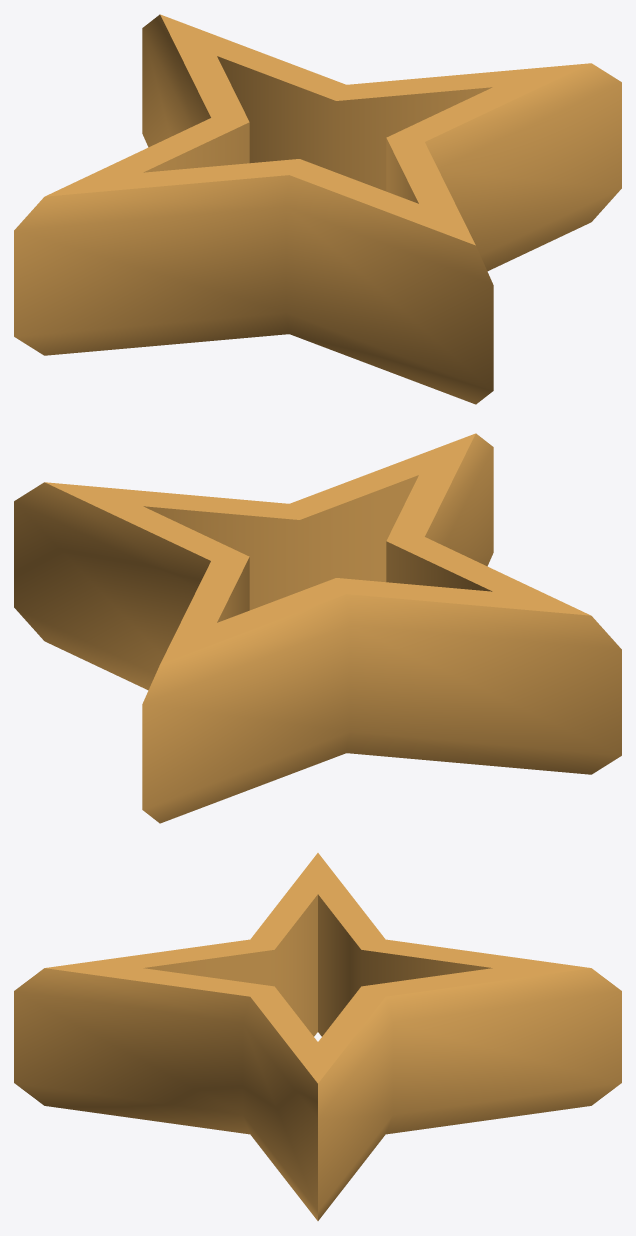
Rendered from Star_4P_05.fbx.
3 views of the same model, one above another, from view 1: azimuth 30°, elevation 25°; view 2: azimuth 150°, elevation 25°; view 3: azimuth 270°, elevation 25° (orthographic). The views are drawn at different scales.
Visible parts, largest first — view 1: Star_4P_05; view 2: Star_4P_05; view 3: Star_4P_05.
Part boxes in pixels (box(x1,y1,x2,y2)): Star_4P_05: box(14, 14, 621, 404); Star_4P_05: box(14, 433, 621, 823); Star_4P_05: box(14, 853, 621, 1220).
Size of the model in its own units: 400 by 100 by 400.
